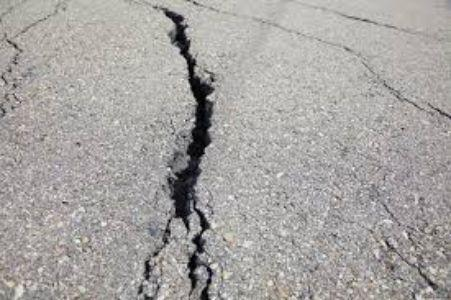crack: (227, 12, 451, 127), (140, 2, 220, 300), (359, 187, 440, 296), (2, 5, 60, 116)
